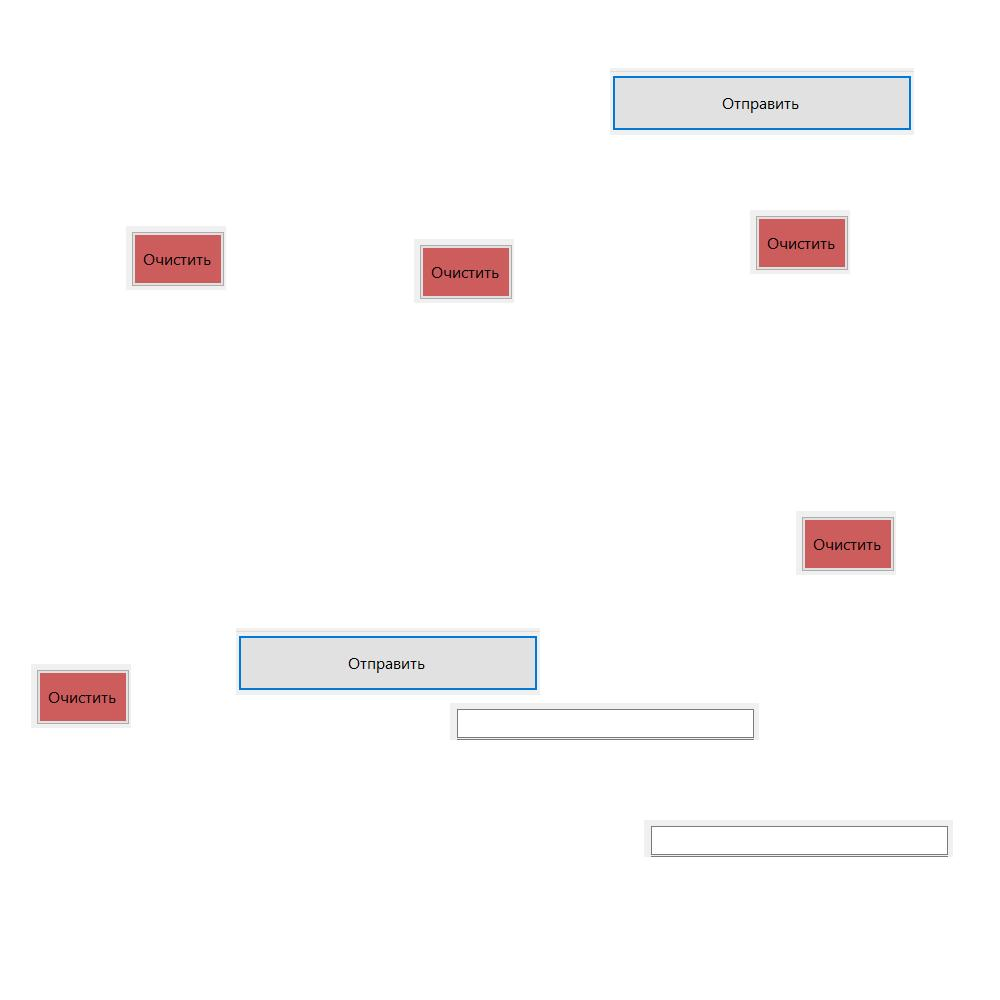Button: (610, 68, 914, 135), (236, 628, 540, 695), (126, 226, 226, 290), (414, 239, 514, 303), (750, 210, 850, 274), (796, 511, 896, 575), (31, 664, 131, 728)
EditText-: (450, 703, 759, 740), (644, 820, 953, 857)
